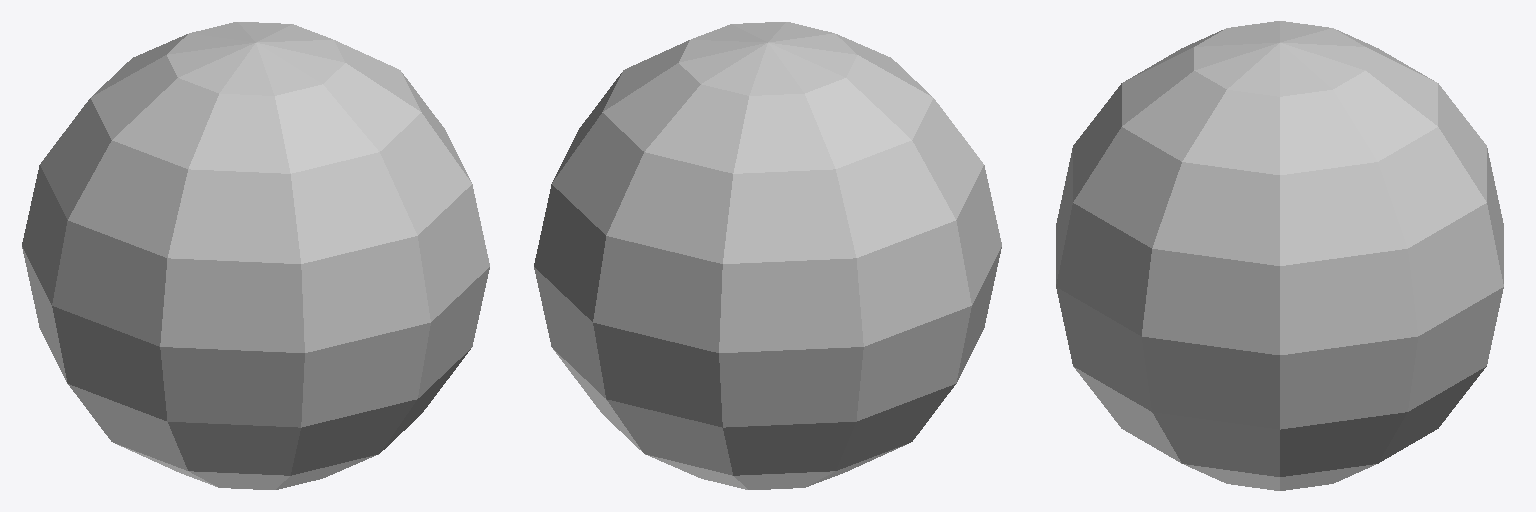
Rendered from Projectile.obj.
3 renders of one model, left to right at view 1: azimuth 30°, elevation 25°; view 2: azimuth 150°, elevation 25°; view 3: azimuth 270°, elevation 25°, orthographic.
Parts seen in each view (by area): view 1: Sphere.002; view 2: Sphere.002; view 3: Sphere.002.
Boxes of the visible parts, x1,y1,x2,y2 form: Sphere.002: [22, 22, 489, 489]; Sphere.002: [534, 22, 1001, 489]; Sphere.002: [1056, 21, 1503, 490].
Bounding box in the file's own units: 17 × 17 × 16.17.